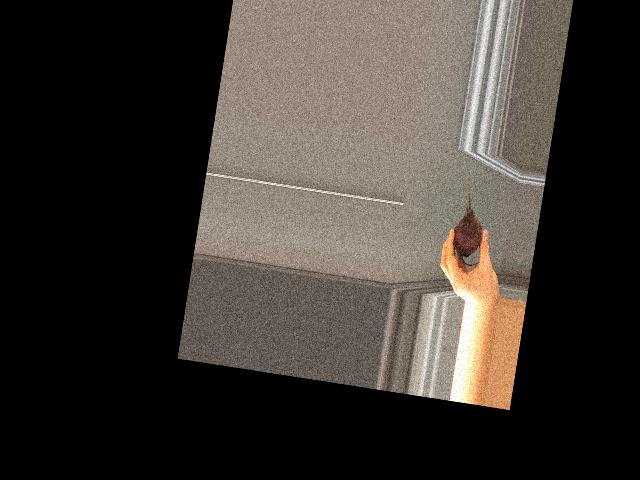beet: (450, 175, 491, 266)
